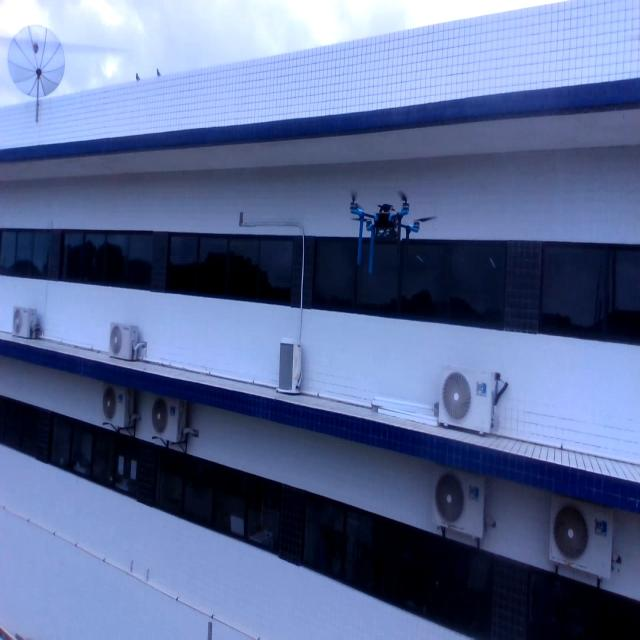-uav-: (339, 172, 438, 301)
